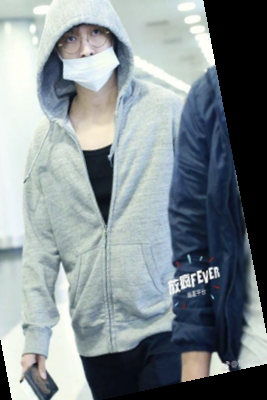mask_weared_incorrect: (37, 1, 141, 92)
